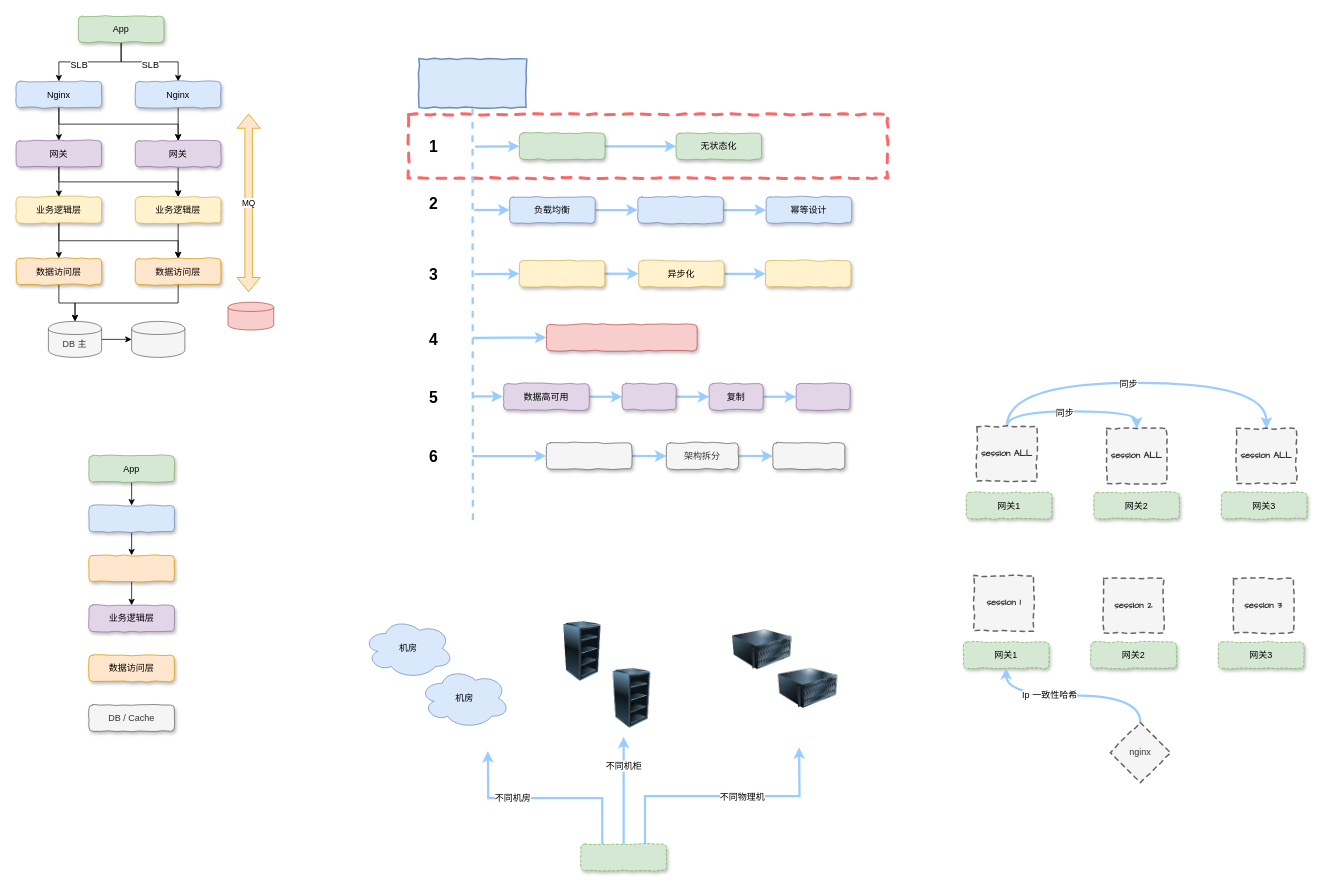
The diagram is 1325 pixels wide and 889 high, and some of its shapes have lost their labels. Each missing label, with the centre of its shape:
Cache: [250,316]
DB 从: [158,339]
Nginx / LVS: [132,519]
sharding: [823,397]
容错重试: [681,210]
微服务高可用手段: [472,83]
服务: [624,858]
服务冗余: [562,147]
服务分级: [809,456]
服务治理: [589,456]
服务限流降级熔断: [622,338]
柔性化: [562,274]
缓存: [649,397]
网关层: [132,569]
超时机制: [808,274]
